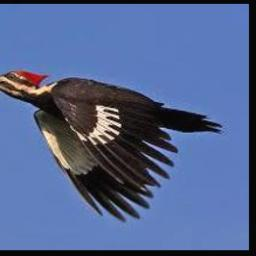Woodpecker: (0, 69, 223, 221)
